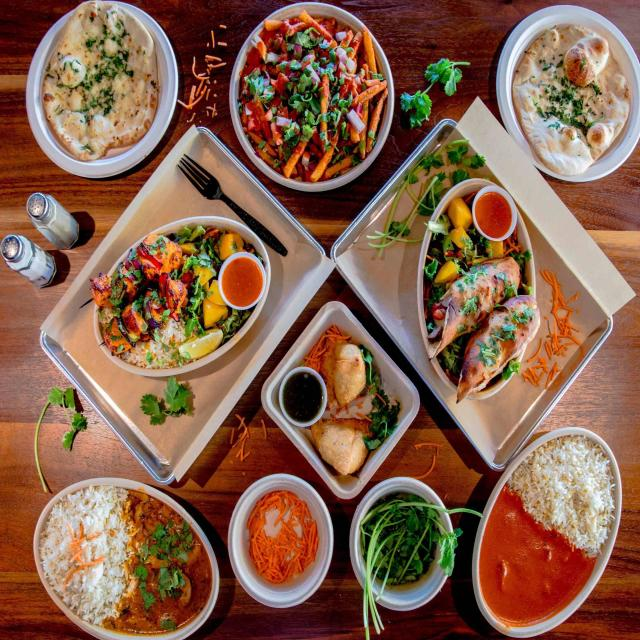ca rot: (234, 487, 328, 594)
com: (468, 432, 624, 639), (28, 503, 210, 632)
do cuon: (420, 265, 534, 399), (320, 346, 392, 472)
do ngot: (30, 9, 175, 166), (506, 10, 632, 162)
do xao: (234, 12, 390, 184)
ngo: (356, 476, 456, 606)
nuoc tuong: (270, 372, 323, 432)
thuc an: (96, 219, 210, 387)
tieu: (0, 188, 73, 311)
tuong ot: (217, 250, 267, 322), (459, 188, 518, 243)
